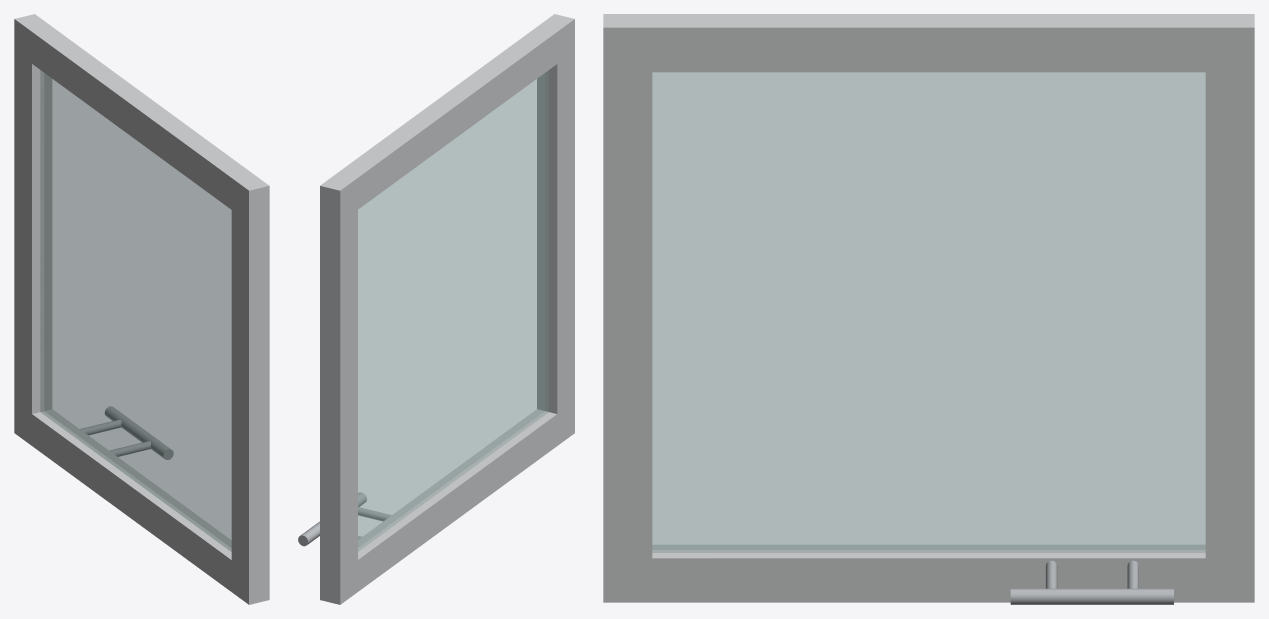
The model's file is side_door_right.obj.
3 renders of one model, left to right at view 1: azimuth 30°, elevation 25°; view 2: azimuth 150°, elevation 25°; view 3: azimuth 270°, elevation 25°, orthographic. The views are drawn at different scales.
Visible parts, largest first — view 1: pane, upper_rail, lower_rail, rear_stile, front_stile, handle; view 2: pane, lower_rail, upper_rail, rear_stile, front_stile, handle; view 3: pane, rear_stile, front_stile, lower_rail, upper_rail, handle.
Boxes of the visible parts, box(x1,y1,x2,y2) form: pane: box(40, 70, 231, 551); upper_rail: box(231, 173, 269, 604); lower_rail: box(14, 14, 52, 445); rear_stile: box(32, 27, 251, 209); front_stile: box(32, 409, 231, 591); handle: box(105, 406, 173, 459); pane: box(358, 70, 548, 551); lower_rail: box(320, 173, 357, 604); upper_rail: box(537, 14, 574, 445); rear_stile: box(338, 27, 557, 209); front_stile: box(358, 409, 557, 591); handle: box(298, 492, 366, 546); pane: box(652, 72, 1205, 552); rear_stile: box(652, 14, 1205, 72); front_stile: box(652, 544, 1205, 602); lower_rail: box(1205, 14, 1254, 602); upper_rail: box(603, 14, 652, 602); handle: box(1010, 588, 1173, 604).
Bounding box in the file's own units: 0.14 × 0.777 × 0.798.
